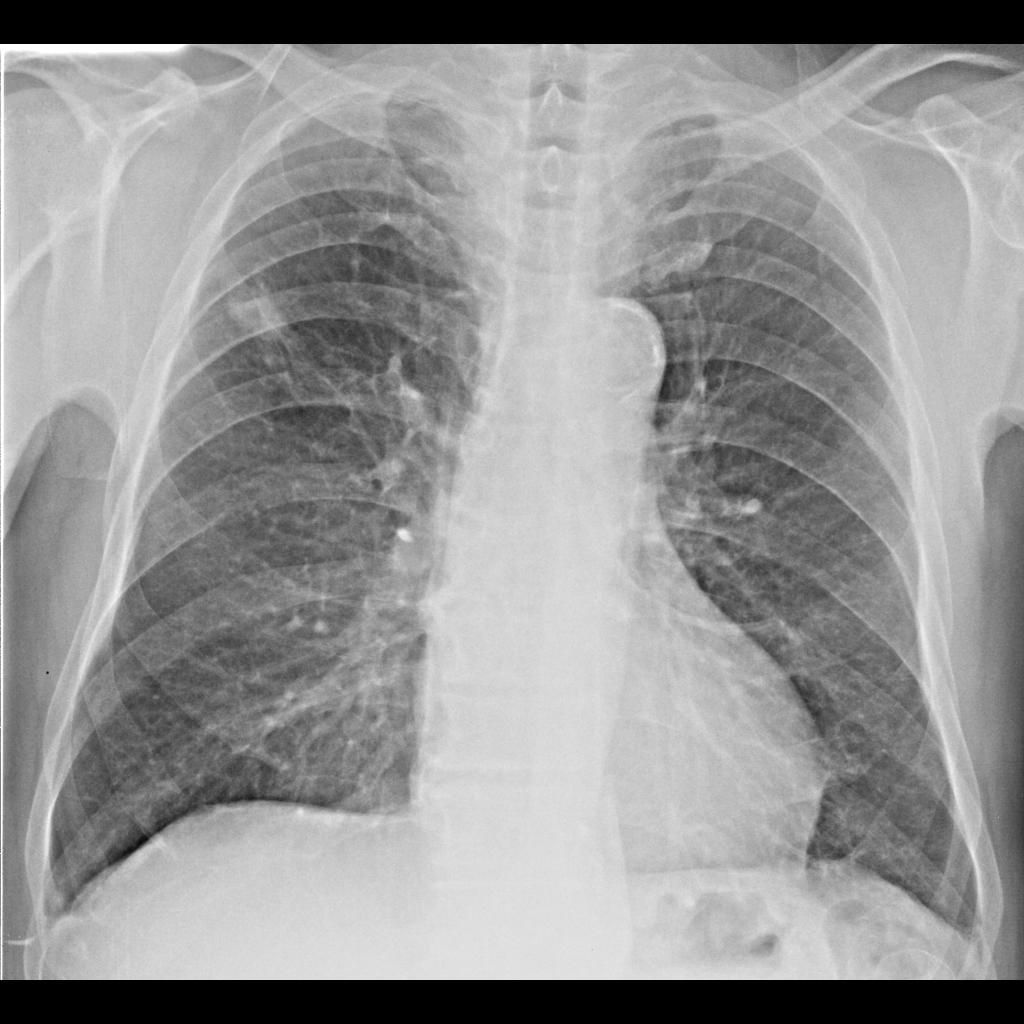Nodule: (227, 283, 289, 346)
